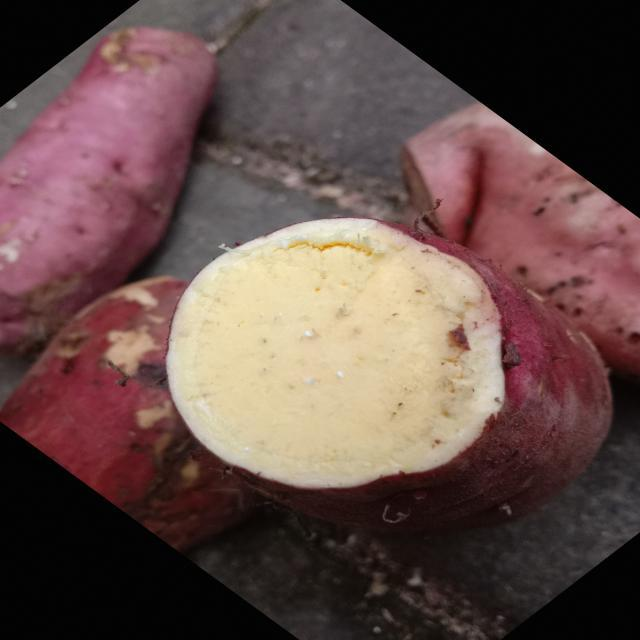Healthy Sweet Potato: (167, 219, 505, 488)
